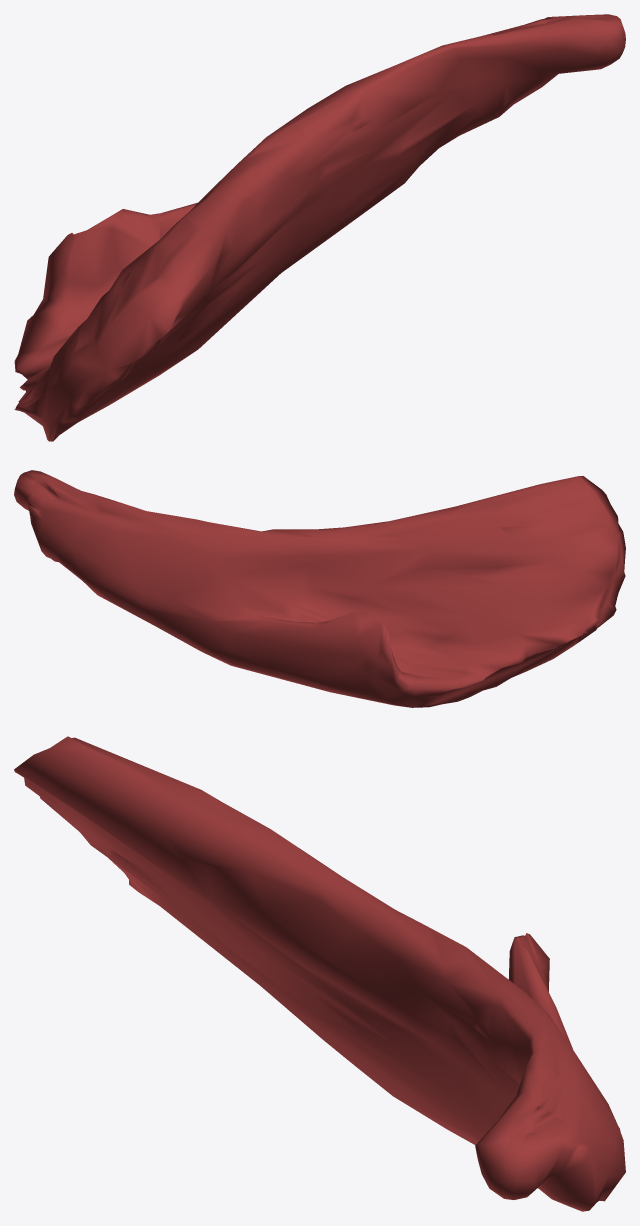
The model's file is obturator-externus-l.glb.
3 renders of one model, top to bottom at view 1: azimuth 30°, elevation 25°; view 2: azimuth 150°, elevation 25°; view 3: azimuth 270°, elevation 25°, orthographic. The views are drawn at different scales.
Parts seen in each view (by area): view 1: Obturator externus.l; view 2: Obturator externus.l; view 3: Obturator externus.l.
Boxes of the visible parts, x1,y1,x2,y2 form: Obturator externus.l: (14, 14, 625, 441); Obturator externus.l: (14, 470, 625, 707); Obturator externus.l: (14, 736, 625, 1211).
Bounding box in the file's own units: 0.0995 × 0.0309 × 0.0582.
